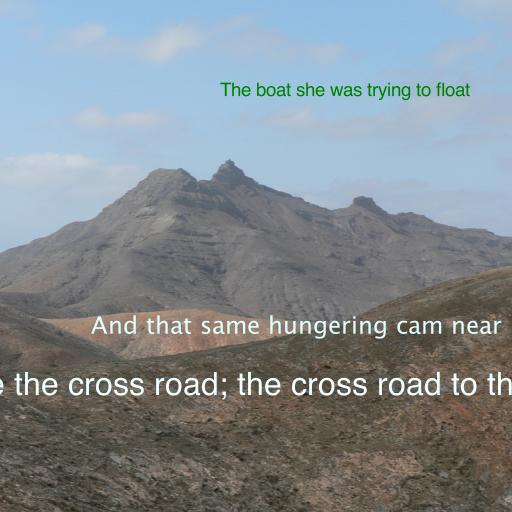Big Caslon: (0, 371, 512, 400)
Lucida Grande: (90, 315, 502, 339)
SignPainter: (220, 82, 470, 101)
